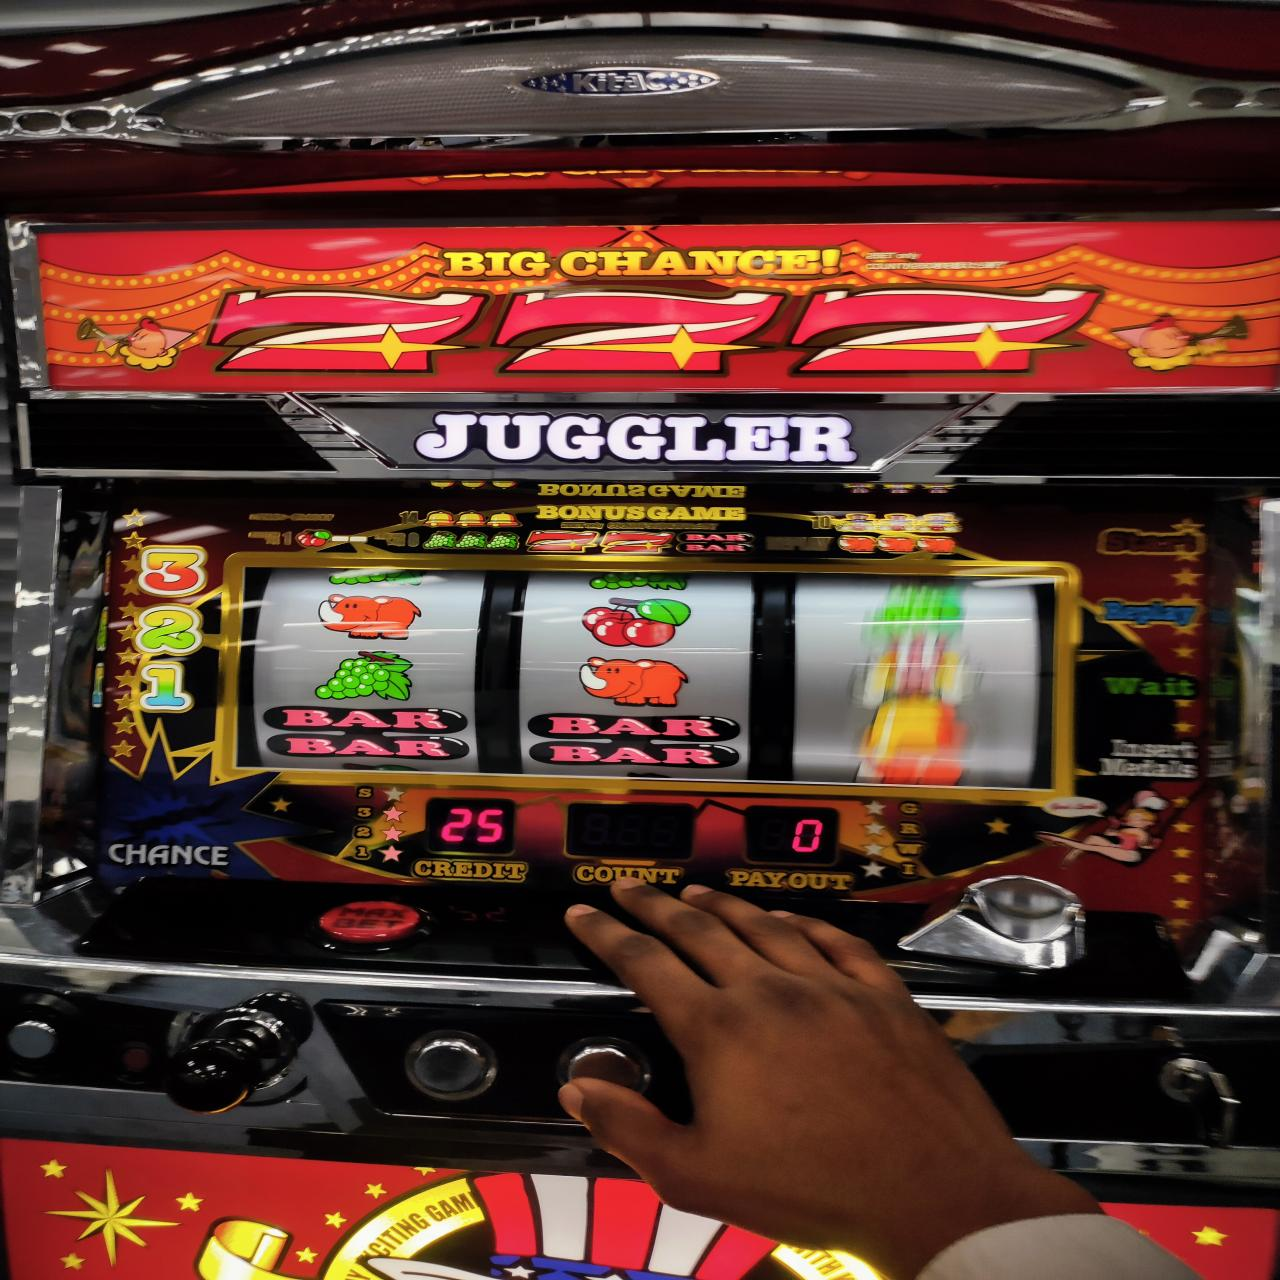8: (578, 655, 692, 708), (316, 593, 424, 636)
bar: (525, 712, 745, 772), (260, 706, 474, 762)
cherry: (580, 592, 693, 644)
grape: (314, 647, 416, 700)
rhino: (236, 563, 1060, 791)
